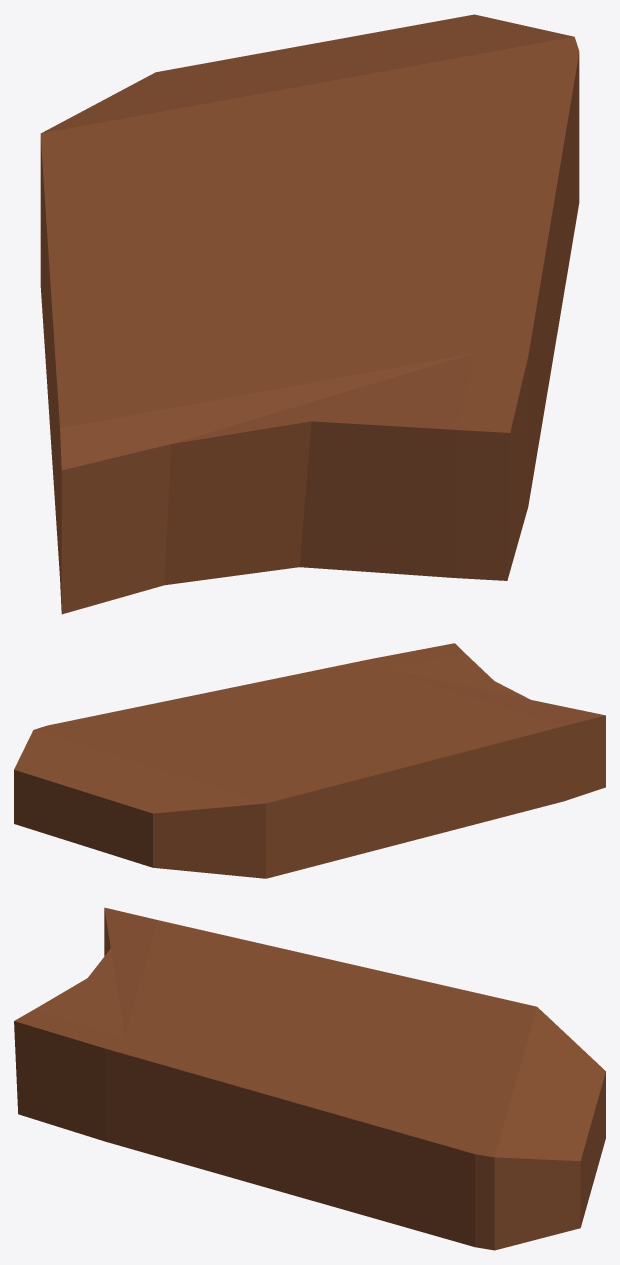
The model's file is upper_back_leg.glb.
3 renders of one model, top to bottom at view 1: azimuth 30°, elevation 25°; view 2: azimuth 150°, elevation 25°; view 3: azimuth 270°, elevation 25°, orthographic. The views are drawn at different scales.
Parts seen in each view (by area): view 1: Cube; view 2: Cube; view 3: Cube.
Part boxes in pixels (x1=…): Cube: x1=40, y1=14, x2=579, y2=614; Cube: x1=14, y1=643, x2=605, y2=878; Cube: x1=14, y1=907, x2=605, y2=1250.
Bounding box in the file's own units: 2.3 × 0.4048 × 2.31.
